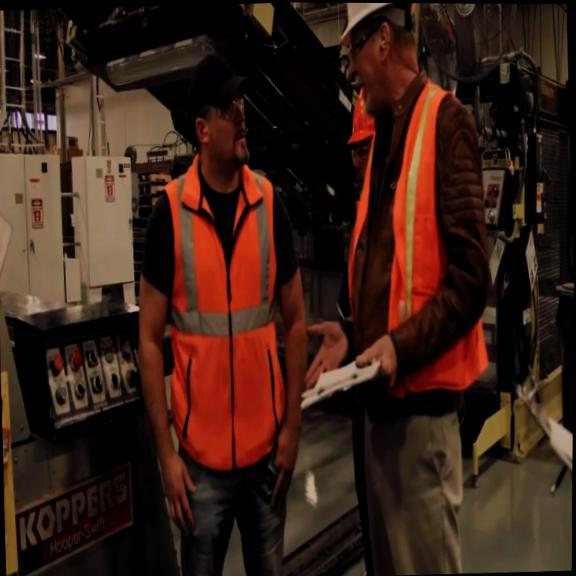safety_vest: (335, 72, 489, 404), (159, 148, 290, 475)
